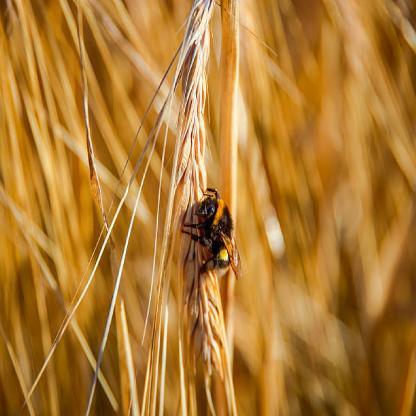sawfly: (176, 167, 245, 298)
